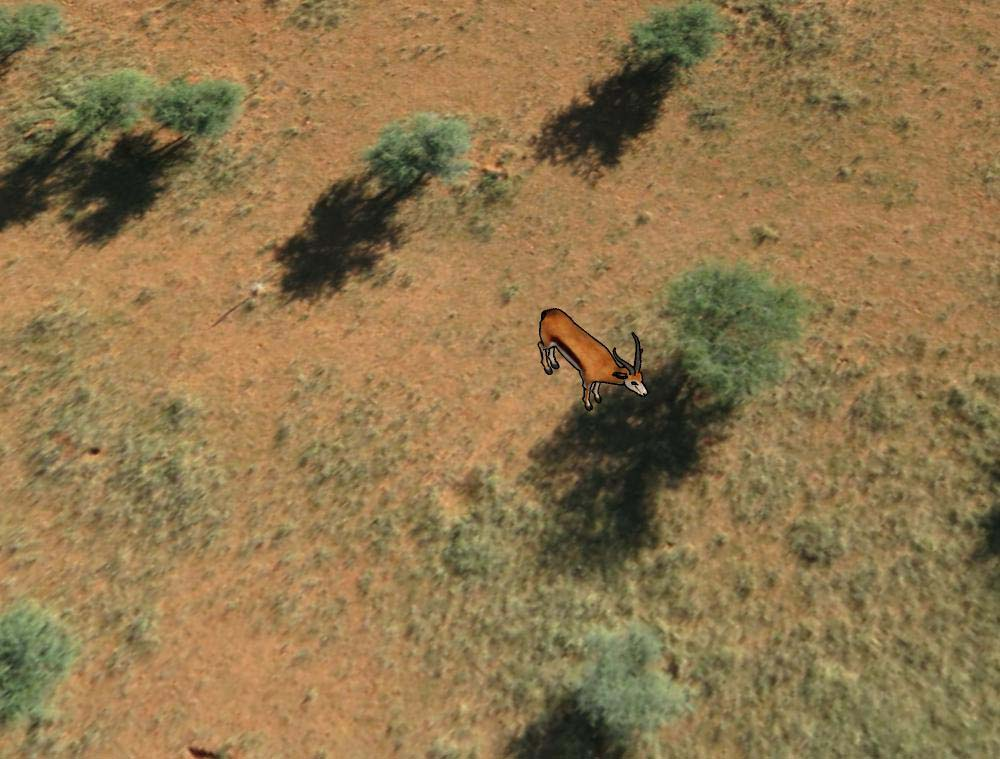springbok: (534, 303, 651, 413)
